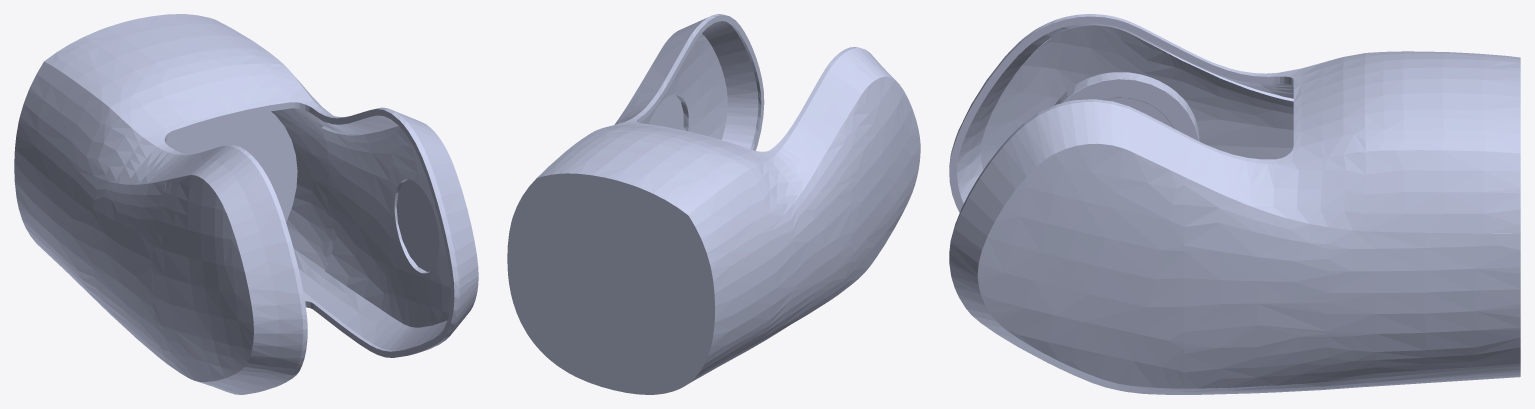
File: right_shoulder_roll_link.dae
3 views of the same model, side by side, from view 1: azimuth 30°, elevation 25°; view 2: azimuth 150°, elevation 25°; view 3: azimuth 270°, elevation 25° (orthographic). The views are drawn at different scales.
Parts seen in each view (by area): view 1: right_shoulder_roll_link; view 2: right_shoulder_roll_link; view 3: right_shoulder_roll_link.
Boxes of the visible parts, box(x1,y1,x2,y2) form: right_shoulder_roll_link: box(14, 14, 478, 394); right_shoulder_roll_link: box(507, 14, 920, 394); right_shoulder_roll_link: box(949, 14, 1520, 394).
Bounding box in the file's own units: 0.0862 × 0.0871 × 0.1491.
